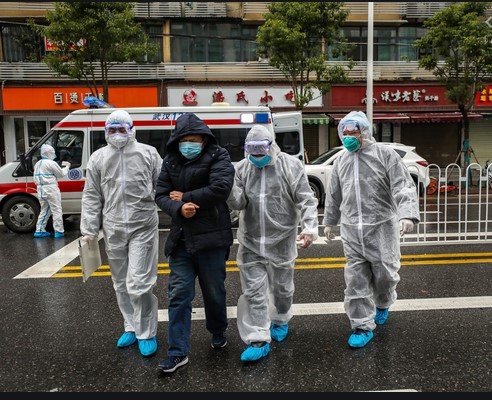face_with_mask: (173, 122, 208, 162), (244, 126, 277, 165), (337, 118, 371, 154), (106, 113, 131, 149)
